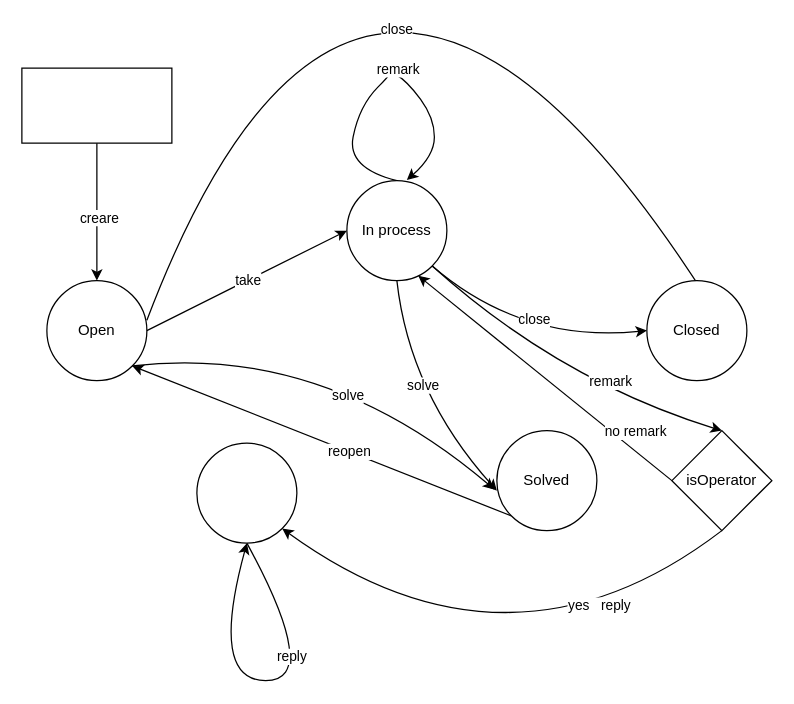
The diagram is 794 pixels wide and 704 high, and some of its shapes have lost their labels. Here are the shapes that lost their labels. From the top down, the box of each, then its label:
(21, 67, 172, 143): init
(196, 442, 297, 543): Pending
